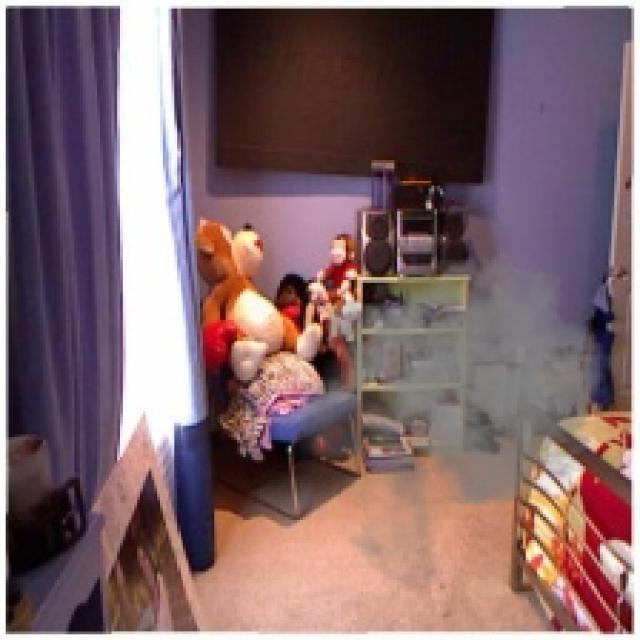Smoke: (286, 248, 628, 598)
